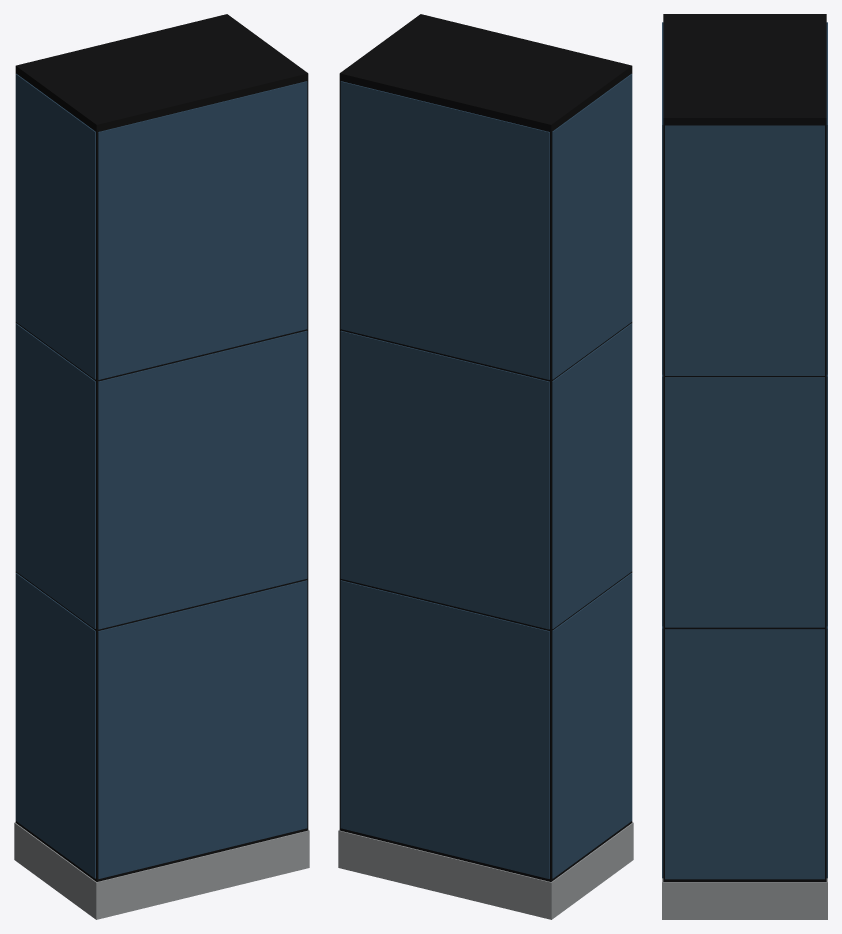
Rendered from gteki_column_sleeve_900x600_h3200_accent.glb.
3 renders of one model, left to right at view 1: azimuth 30°, elevation 25°; view 2: azimuth 150°, elevation 25°; view 3: azimuth 270°, elevation 25°, orthographic.
Visible parts, largest first — view 1: VIS_body; view 2: VIS_body; view 3: VIS_body.
Part boxes in pixels (x1,y1,x2,y2): VIS_body: [14, 14, 309, 919]; VIS_body: [338, 14, 633, 919]; VIS_body: [662, 14, 827, 919].
Size of the model in its own units: 0.9 by 3.2 by 0.6.
Materials: 1 (1 with a texture image).
